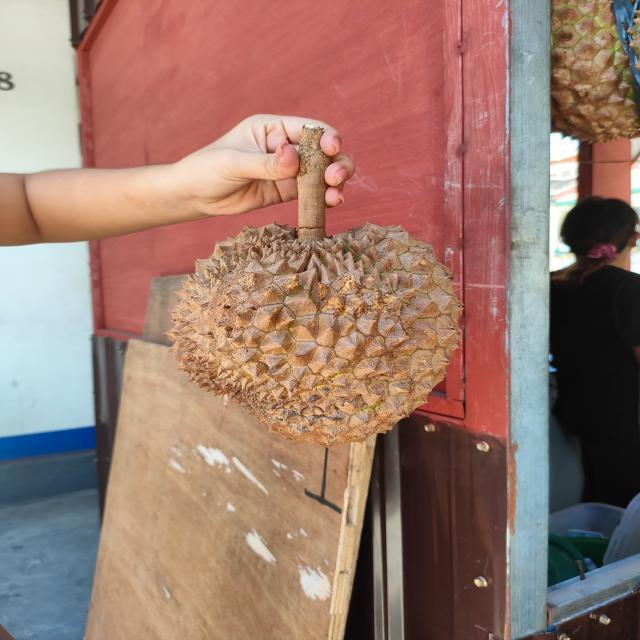mature: (163, 219, 465, 447)
